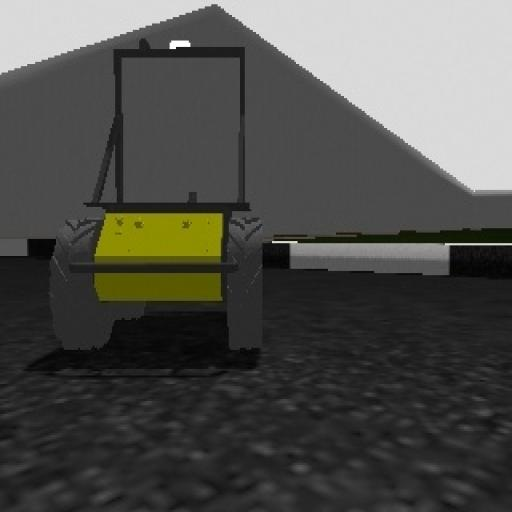huskya200: (52, 37, 276, 379)
